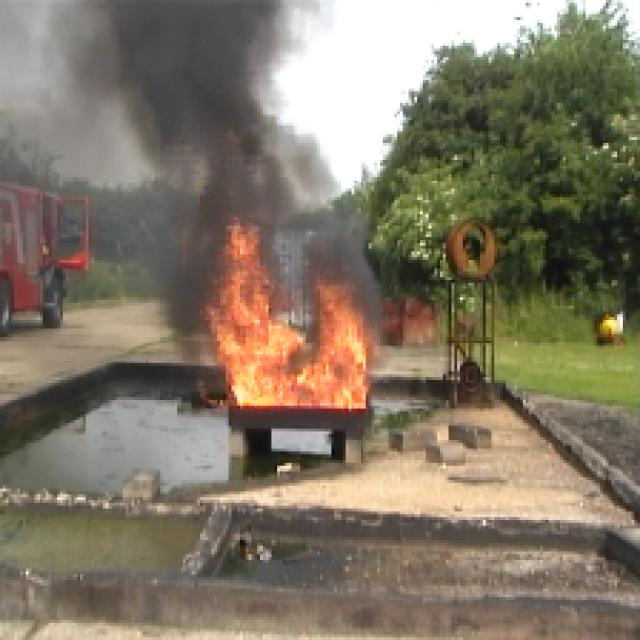fire: (219, 297, 359, 409)
smoke: (111, 9, 262, 140), (167, 165, 219, 302), (288, 181, 357, 275)
